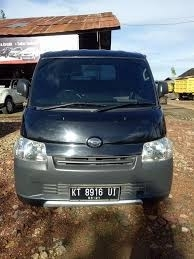plate: (69, 186, 118, 200)
